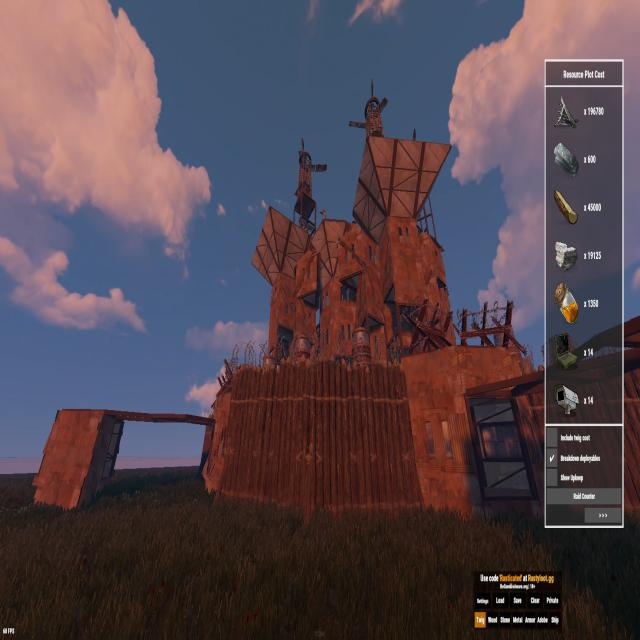Player: (319, 205, 326, 220)
